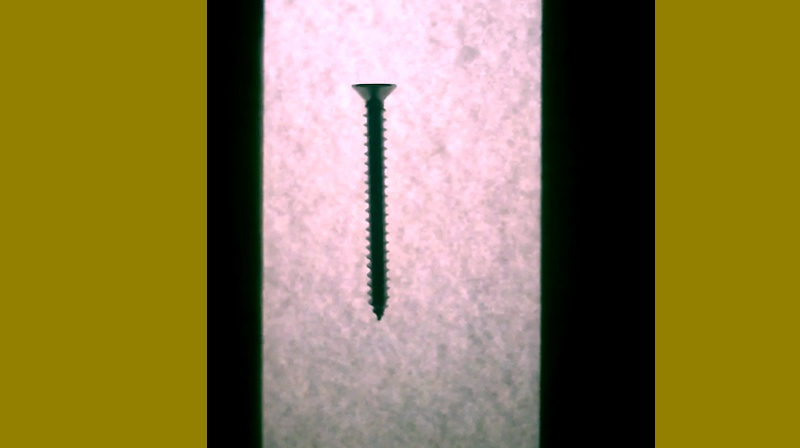S002: (348, 80, 399, 323)
